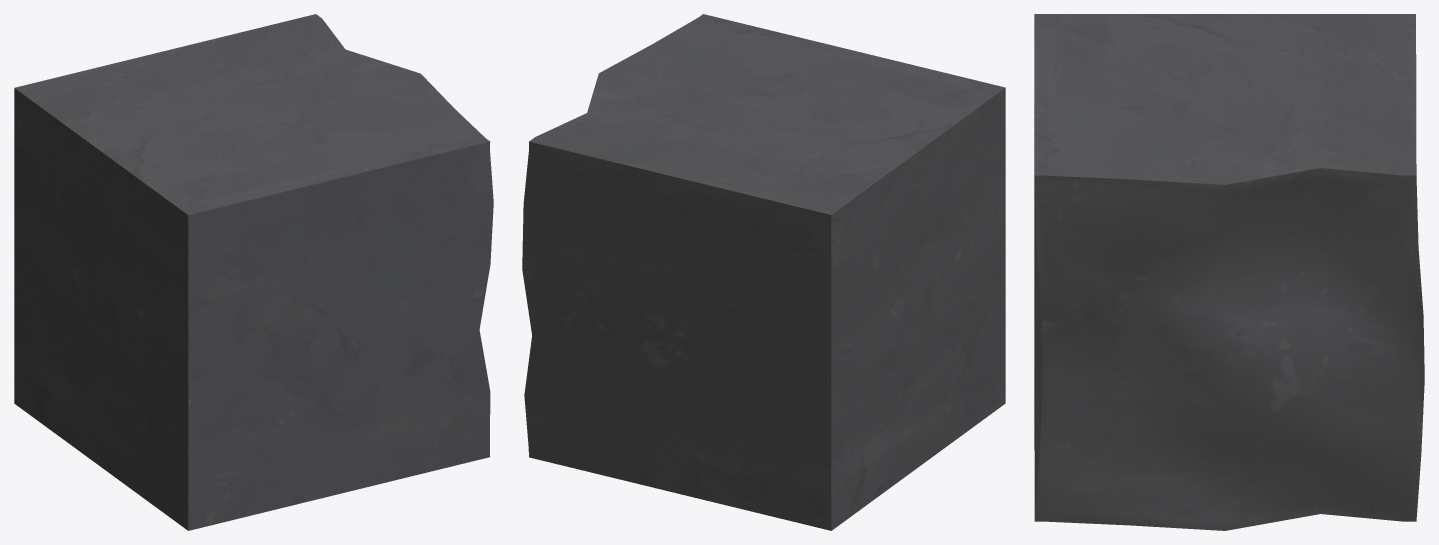
File: StoneWall.fbx
3 renders of one model, left to right at view 1: azimuth 30°, elevation 25°; view 2: azimuth 150°, elevation 25°; view 3: azimuth 270°, elevation 25°, orthographic. The views are drawn at different scales.
Parts seen in each view (by area): view 1: StoneWall; view 2: StoneWall; view 3: StoneWall.
Part boxes in pixels (x1,y1,x2,y2): StoneWall: (14, 14, 493, 530); StoneWall: (522, 14, 1005, 530); StoneWall: (1034, 14, 1424, 530).
Size of the model in its own units: 221 by 200 by 205.
